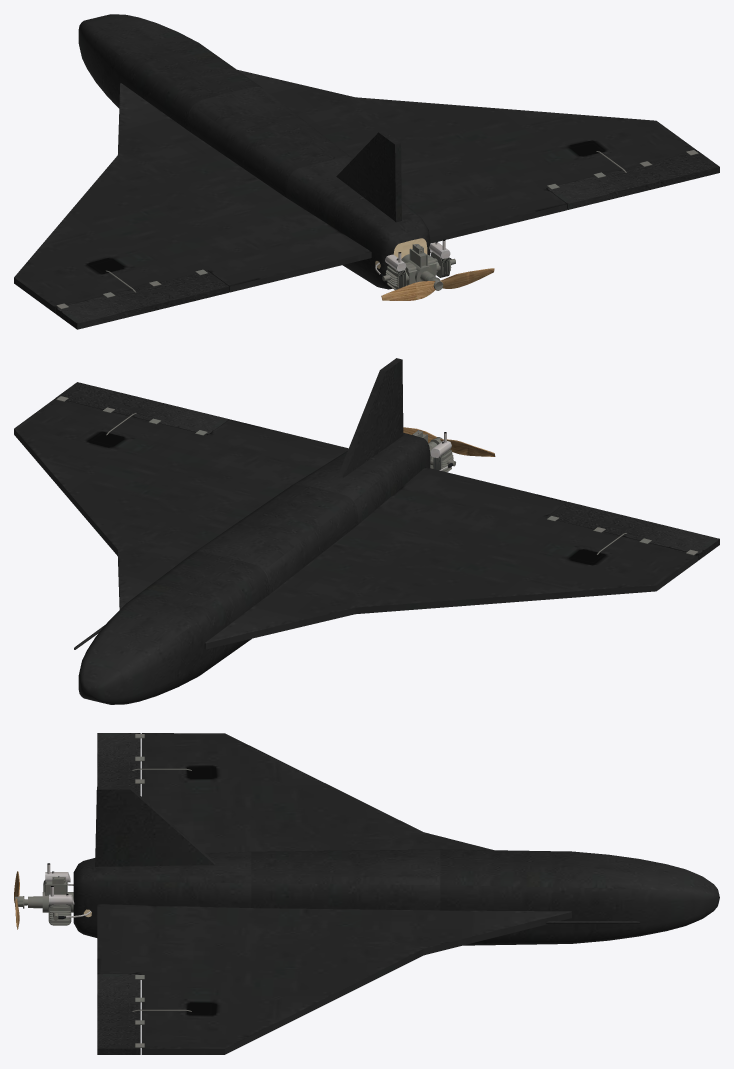
Rendered from loitering.glb.
3 renders of one model, top to bottom at view 1: azimuth 30°, elevation 25°; view 2: azimuth 150°, elevation 25°; view 3: azimuth 270°, elevation 25°, orthographic.
Parts seen in each view (by area): view 1: body, flap2, flap1, motor, rotor; view 2: body, flap2, flap1, motor, rotor; view 3: body, flap1, flap2, motor.
Boxes of the visible parts, bbox=[...] form: body: bbox=[14, 14, 697, 313]; flap2: bbox=[55, 269, 229, 329]; flap1: bbox=[546, 150, 719, 209]; motor: bbox=[380, 239, 455, 289]; rotor: bbox=[381, 268, 494, 300]; body: bbox=[14, 358, 697, 704]; flap2: bbox=[546, 502, 719, 560]; flap1: bbox=[56, 382, 229, 435]; motor: bbox=[412, 430, 455, 472]; rotor: bbox=[403, 427, 495, 456]; body: bbox=[73, 733, 719, 1054]; flap1: bbox=[97, 974, 144, 1054]; flap2: bbox=[97, 733, 144, 795]; motor: bbox=[23, 863, 74, 925].
Bounding box in the file's own units: 4.57 × 0.9712 × 4.32.
1 material, 1 textured.
